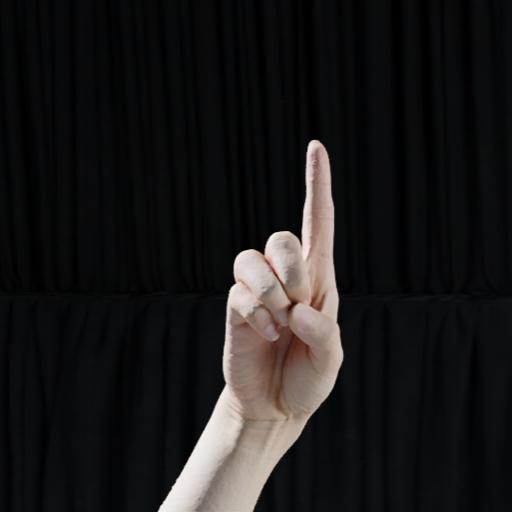D: (194, 133, 368, 430)
